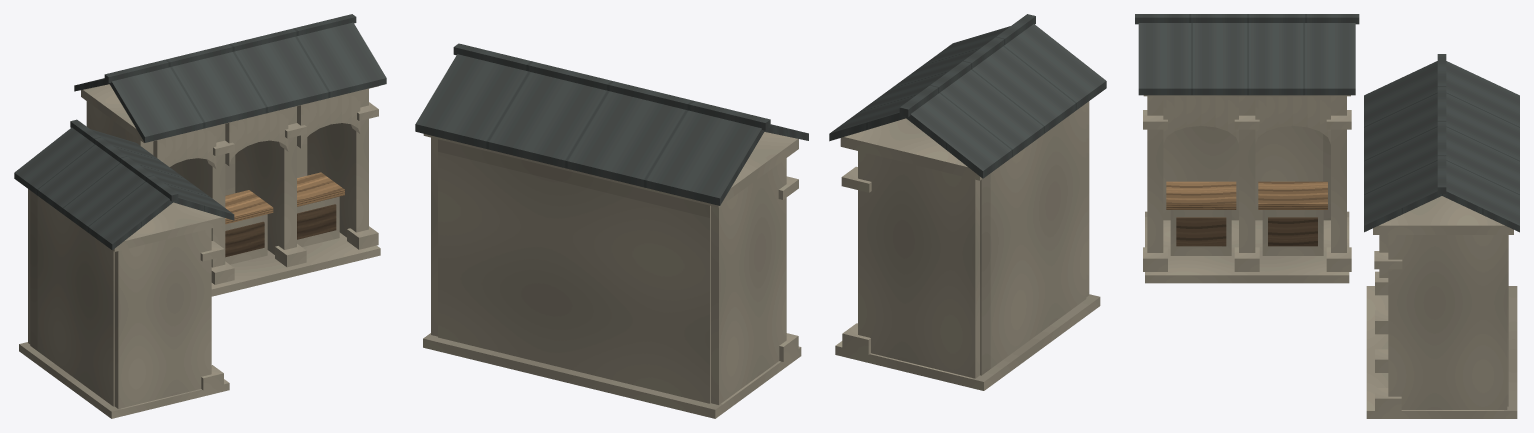
File: abuja.glb
3 views of the same model, side by side, from view 1: azimuth 30°, elevation 25°; view 2: azimuth 150°, elevation 25°; view 3: azimuth 270°, elevation 25° (orthographic). The views are drawn at different scales.
Visible parts, largest first — view 1: abuja; view 2: abuja; view 3: abuja.
Part boxes in pixels (box(x1,y1,x2,y2)): abuja: box(14, 14, 386, 418); abuja: box(415, 14, 1106, 418); abuja: box(1135, 14, 1519, 418).
Size of the model in its own units: 4.65 by 2.5 by 3.7.
1 material, 1 textured.
